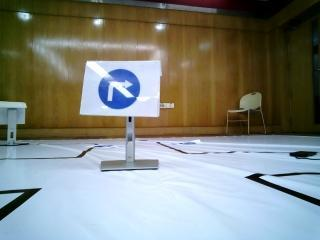right: (87, 61, 157, 113)
